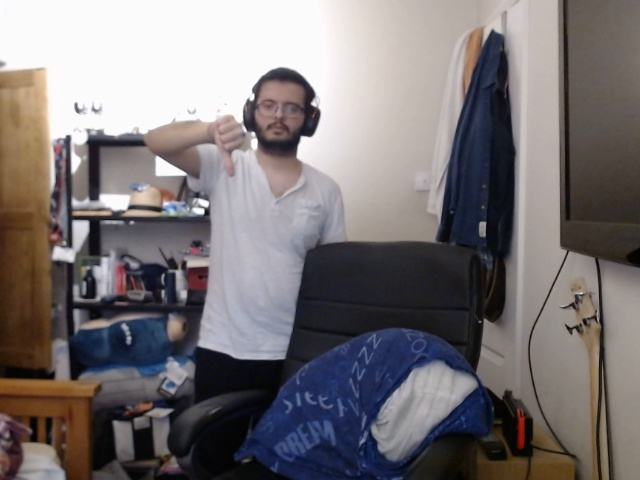Thumbs down: (207, 109, 248, 186)
